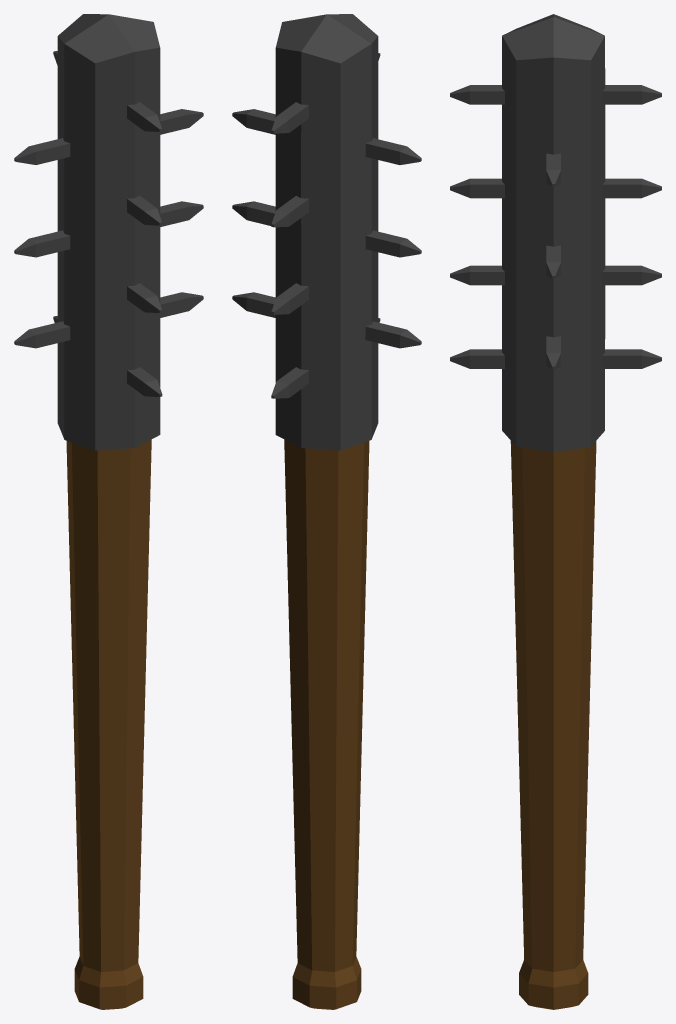
The model's file is TrenchMace.glb.
The picture shows the model from 3 angles, left to right: view 1: azimuth 30°, elevation 25°; view 2: azimuth 150°, elevation 25°; view 3: azimuth 270°, elevation 25°; orthographic projection.
Visible parts, largest first — view 1: Metal, Handle, Spike 1.013, Spike 1.012, Spike 1.011, Spike 1.010, Spike 1.008, Spike 1.009, Spike 1.001, Spike 1, Spike 1.002, Spike 1.003; view 2: Metal, Handle, Spike 1.013, Spike 1.011, Spike 1.012, Spike 1.006, Spike 1.007, Spike 1.004, Spike 1.005, Spike 1.008, Spike 1.010, Spike 1.009; view 3: Metal, Handle, Spike 1.005, Spike 1.006, Spike 1.007, Spike 1.004, Spike 1.001, Spike 1.002, Spike 1, Spike 1.003.
Boxes of the visible parts, x1,y1,x2,y2 form: Metal: [57, 14, 160, 450]; Handle: [66, 439, 151, 1009]; Spike 1.013: [14, 321, 70, 348]; Spike 1.012: [14, 230, 70, 257]; Spike 1.011: [14, 138, 70, 164]; Spike 1.010: [160, 292, 203, 317]; Spike 1.008: [160, 109, 203, 134]; Spike 1.009: [160, 201, 203, 226]; Spike 1.001: [127, 196, 162, 225]; Spike 1: [127, 102, 162, 131]; Spike 1.002: [127, 283, 162, 312]; Spike 1.003: [127, 367, 162, 396]; Metal: [275, 14, 378, 450]; Handle: [284, 439, 369, 1009]; Spike 1.013: [365, 321, 421, 348]; Spike 1.011: [365, 138, 421, 164]; Spike 1.012: [365, 230, 421, 257]; Spike 1.006: [271, 283, 308, 314]; Spike 1.007: [271, 367, 308, 398]; Spike 1.004: [271, 102, 308, 133]; Spike 1.005: [271, 196, 308, 227]; Spike 1.008: [232, 109, 275, 134]; Spike 1.010: [232, 292, 275, 317]; Spike 1.009: [232, 201, 275, 225]; Metal: [502, 14, 605, 452]; Handle: [510, 440, 596, 1009]; Spike 1.005: [602, 178, 661, 198]; Spike 1.006: [602, 265, 661, 285]; Spike 1.007: [602, 349, 661, 368]; Spike 1.004: [602, 85, 661, 104]; Spike 1.001: [450, 178, 504, 198]; Spike 1.002: [450, 265, 504, 285]; Spike 1: [450, 85, 504, 104]; Spike 1.003: [450, 349, 504, 368].
Size of the model in its own units: 2.81 by 14.09 by 2.75.
